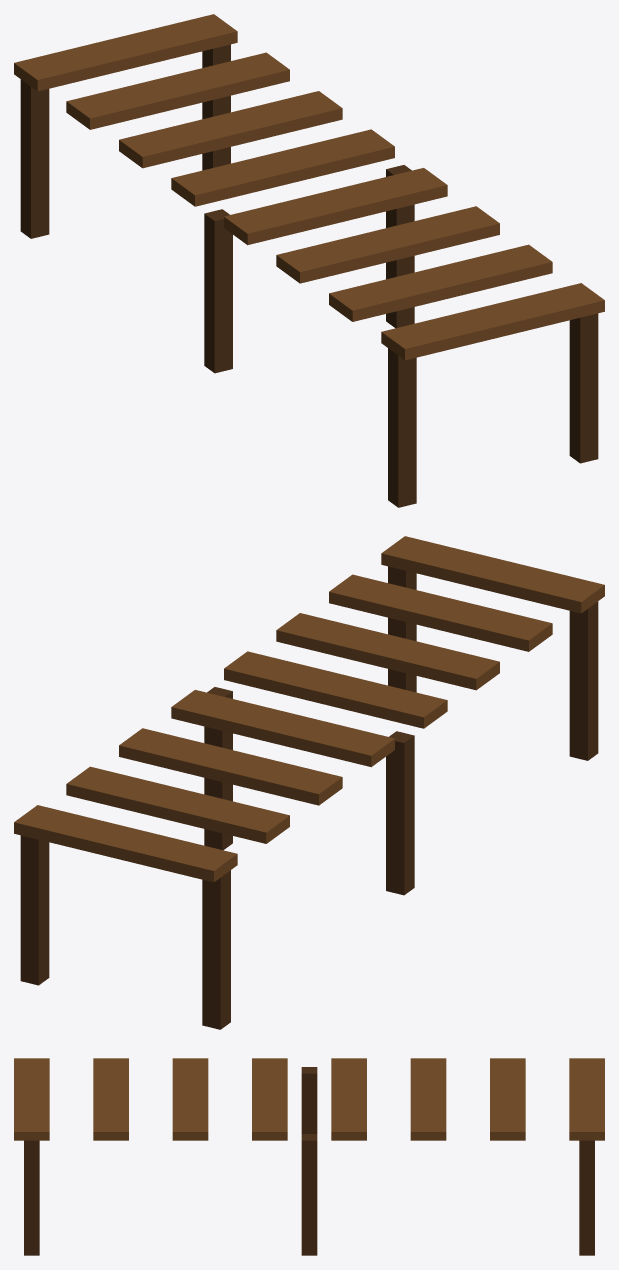
The model's file is jetty_section.glb.
3 renders of one model, top to bottom at view 1: azimuth 30°, elevation 25°; view 2: azimuth 150°, elevation 25°; view 3: azimuth 270°, elevation 25°, orthographic. The views are drawn at different scales.
Visible parts, largest first — view 1: model; view 2: model; view 3: model.
Part boxes in pixels (x1=…): model: x1=14, y1=14, x2=604, y2=507; model: x1=14, y1=536, x2=604, y2=1029; model: x1=14, y1=1058, x2=604, y2=1255.
Size of the model in its own units: 2.2 by 1.72 by 7.45.
